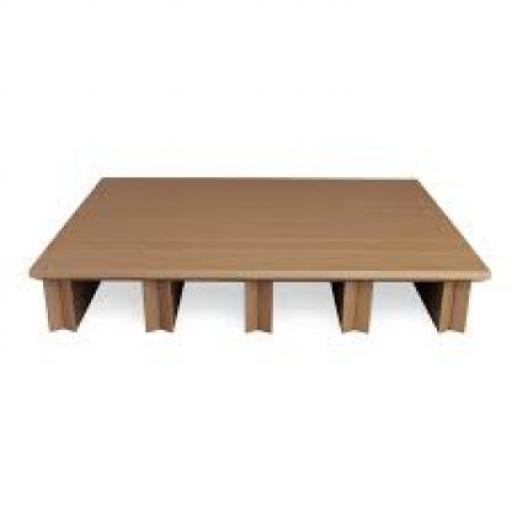cardboard: (27, 173, 487, 334)
